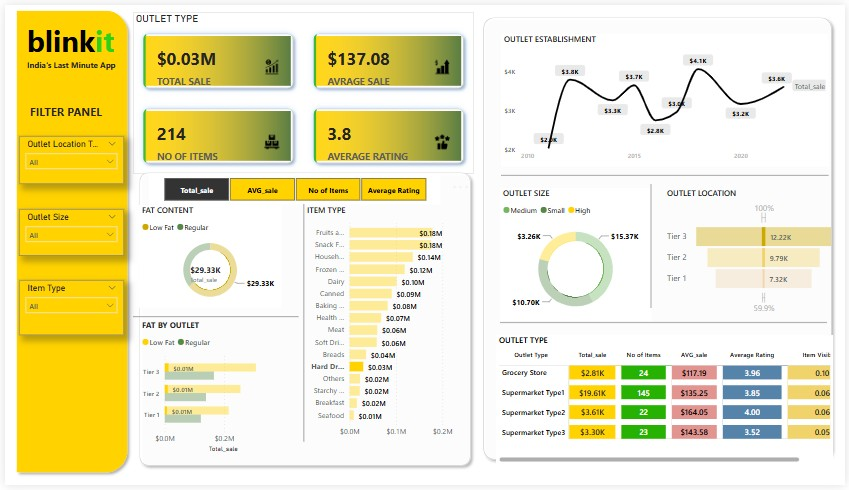

This screenshot's page, from the dashboard's own definition file:
{"tool":"powerbi","page":{"name":"Page  1","canvas":[1400,800],"ordinal":0},"visuals":[{"type":"shape","box":[10,0,203.3,788.3],"z":0},{"type":"textbox","box":[32,22.4,166.4,81.6],"z":1000},{"type":"textbox","box":[32,86.4,166.4,38.4],"z":2000},{"type":"cardVisual","title":"OUTLET TYPE","fields":{"Data":["BlinkIT Grocery Data.Total_sale","BlinkIT Grocery Data.AVG_sale","BlinkIT Grocery Data.No of Items","BlinkIT Grocery Data.Average Rating"]},"box":[213.3,11.7,568.3,270],"z":3000},{"type":"shape","box":[215,270,570,506.7],"z":4000},{"type":"donutChart","title":"FAT CONTENT","fields":{"Y":["BlinkIT Grocery Data.Total_sale"],"Category":["BlinkIT Grocery Data.Item Fat Content"]},"box":[222.9,332.9,237.1,171.4],"z":5000},{"type":"slicer","fields":{"Values":["Metrics.Metrics"]},"box":[240,281.4,485.7,51.4],"z":6000},{"type":"cardVisual","fields":{"Data":["BlinkIT Grocery Data.Total_sale"]},"box":[304.3,454.3,98.6,70],"z":7000},{"type":"clusteredBarChart","title":"FAT BY OUTLET","fields":{"Y":["BlinkIT Grocery Data.Total_sale"],"Category":["BlinkIT Grocery Data.Outlet Location Type"],"Series":["BlinkIT Grocery Data.Item Fat Content"]},"box":[223.3,525,260,225],"z":8000},{"type":"shape","box":[214,504,276,32],"z":9000},{"type":"shape","box":[460,332,76,396],"z":10000},{"type":"barChart","title":"ITEM TYPE","fields":{"Y":["BlinkIT Grocery Data.Total_sale"],"Category":["BlinkIT Grocery Data.Item Type"]},"box":[498.6,332.9,252.9,395.7],"z":11000},{"type":"shape","box":[801.7,21.7,598.3,755],"z":12000},{"type":"lineChart","title":"OUTLET ESTABLISHMENT","fields":{"Category":["BlinkIT Grocery Data.Outlet Establishment Year"],"Y":["BlinkIT Grocery Data.Total_sale"]},"box":[826.2,48.8,546.2,221.2],"z":13000},{"type":"shape","box":[826,270,546,28],"z":14000},{"type":"donutChart","title":"OUTLET SIZE","fields":{"Y":["BlinkIT Grocery Data.Total_sale"],"Category":["BlinkIT Grocery Data.Outlet Size"]},"box":[825,305,251.7,225],"z":15000},{"type":"shape","box":[1038.3,298.3,76.7,206.7],"z":16000},{"type":"funnel","title":"OUTLET LOCATION","fields":{"Category":["BlinkIT Grocery Data.Outlet Location Type"],"Y":["Sum(BlinkIT Grocery Data.Sales)"]},"box":[1098.3,305,288.3,215],"z":17000},{"type":"shape","box":[825,515,545,28.3],"z":18000},{"type":"pivotTable","title":"OUTLET TYPE","fields":{"Rows":["BlinkIT Grocery Data.Outlet Type"],"Values":["BlinkIT Grocery Data.Total_sale","BlinkIT Grocery Data.No of Items","BlinkIT Grocery Data.AVG_sale","BlinkIT Grocery Data.Average Rating","Avg(BlinkIT Grocery Data.Item Visibility)"]},"box":[801.7,535,585,225],"z":19000},{"type":"slicer","fields":{"Values":["BlinkIT Grocery Data.Outlet Location Type"]},"box":[23.3,218.3,175,80],"z":19001},{"type":"slicer","fields":{"Values":["BlinkIT Grocery Data.Outlet Size"]},"box":[23.3,340,175,78.3],"z":19002},{"type":"slicer","fields":{"Values":["BlinkIT Grocery Data.Item Type"]},"box":[23.3,458.3,175,91.7],"z":19003},{"type":"textbox","box":[36.7,160,155,36.7],"z":19004}]}

Visuals, with their boxes in screenshot pixels (x1, y1, x2, y2), scaled from the page's 1400x800 canvas onto the 849x490 screenshot:
shape: rect(6, 0, 129, 483)
textbox: rect(19, 14, 120, 64)
textbox: rect(19, 53, 120, 76)
"OUTLET TYPE" cardVisual: rect(129, 7, 474, 173)
shape: rect(130, 165, 476, 476)
"FAT CONTENT" donutChart: rect(135, 204, 279, 309)
slicer - Metrics.Metrics: rect(146, 172, 440, 204)
cardVisual - BlinkIT Grocery Data.Total_sale: rect(185, 278, 244, 321)
"FAT BY OUTLET" clusteredBarChart: rect(135, 322, 293, 459)
shape: rect(130, 309, 297, 328)
shape: rect(279, 203, 325, 446)
"ITEM TYPE" barChart: rect(302, 204, 456, 446)
shape: rect(486, 13, 848, 476)
"OUTLET ESTABLISHMENT" lineChart: rect(501, 30, 832, 165)
shape: rect(501, 165, 832, 183)
"OUTLET SIZE" donutChart: rect(500, 187, 653, 325)
shape: rect(630, 183, 676, 309)
"OUTLET LOCATION" funnel: rect(666, 187, 841, 318)
shape: rect(500, 315, 831, 333)
"OUTLET TYPE" pivotTable: rect(486, 328, 841, 466)
slicer - BlinkIT Grocery Data.Outlet Location Type: rect(14, 134, 120, 183)
slicer - BlinkIT Grocery Data.Outlet Size: rect(14, 208, 120, 256)
slicer - BlinkIT Grocery Data.Item Type: rect(14, 281, 120, 337)
textbox: rect(22, 98, 116, 120)
